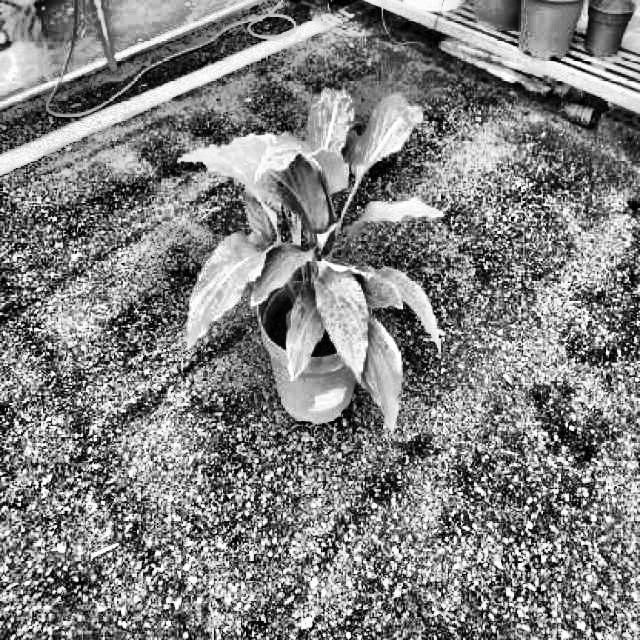plants: (174, 89, 453, 442)
